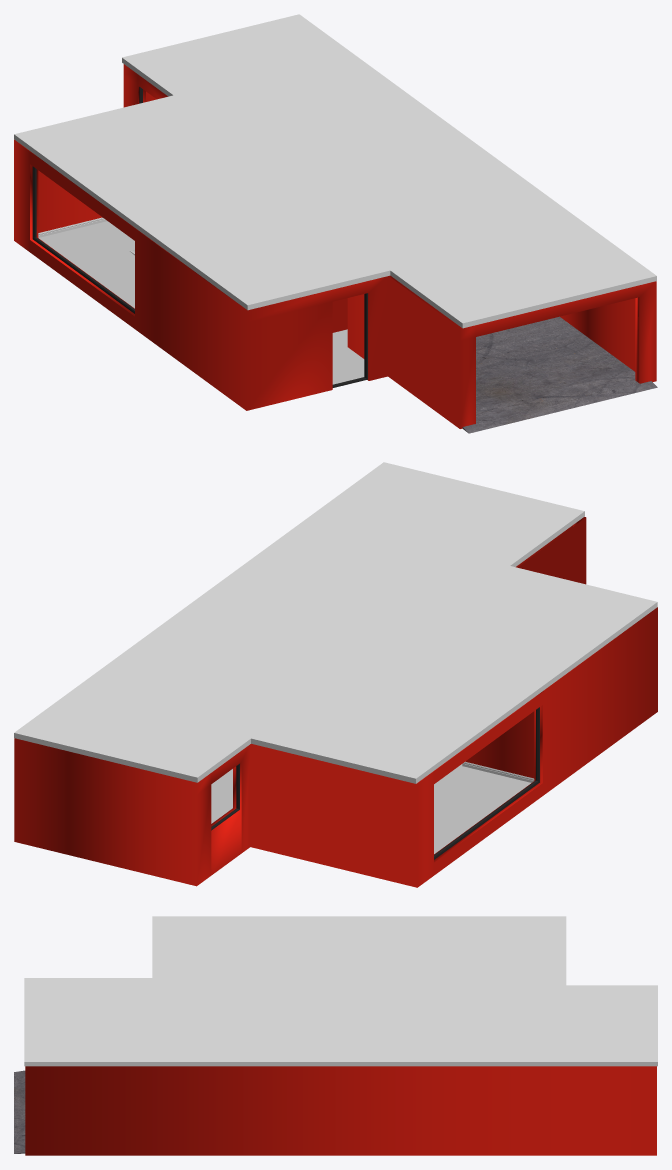
File: MUDesignUnpack3.fbx
3 views of the same model, one above another, from view 1: azimuth 30°, elevation 25°; view 2: azimuth 150°, elevation 25°; view 3: azimuth 270°, elevation 25° (orthographic). The views are drawn at different scales.
Visible parts, largest first — view 1: Cube, Walls, Ceiling.001, Ceiling.002, Walls.006, Ceiling; view 2: Cube, Walls, Ceiling.002, Walls.006, Ceiling; view 3: Cube, Walls, Ceiling.001.
Part boxes in pixels (left/top/right/bottom): Cube: left=14, top=14, right=656, bottom=328; Walls: left=14, top=64, right=656, bottom=428; Ceiling.001: left=462, top=316, right=657, bottom=433; Ceiling.002: left=39, top=221, right=364, bottom=384; Walls.006: left=27, top=149, right=152, bottom=316; Ceiling: left=32, top=87, right=367, bottom=387; Cube: left=14, top=462, right=657, bottom=783; Walls: left=14, top=517, right=657, bottom=887; Ceiling.002: left=211, top=764, right=530, bottom=853; Walls.006: left=417, top=691, right=543, bottom=862; Ceiling: left=211, top=707, right=539, bottom=859; Cube: left=24, top=916, right=657, bottom=1066; Walls: left=25, top=1066, right=656, bottom=1155; Ceiling.001: left=14, top=1070, right=25, bottom=1153.
Bounding box in the file's own units: 841 × 253 × 1567.
